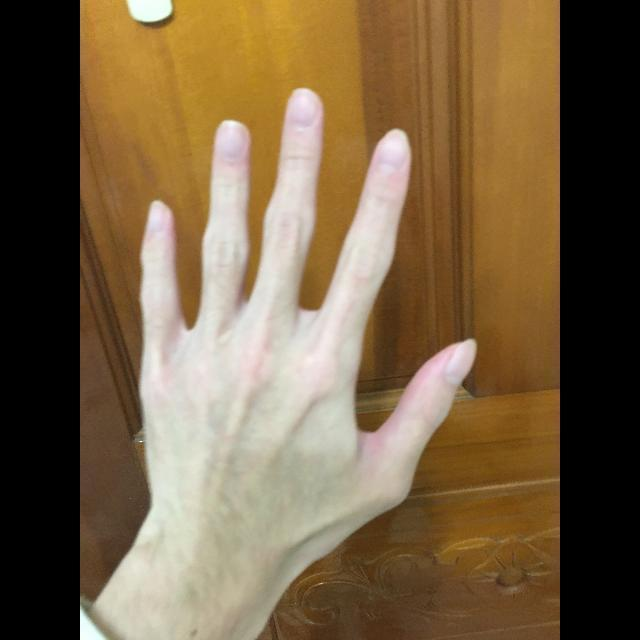bare_hand: (135, 87, 479, 530)
